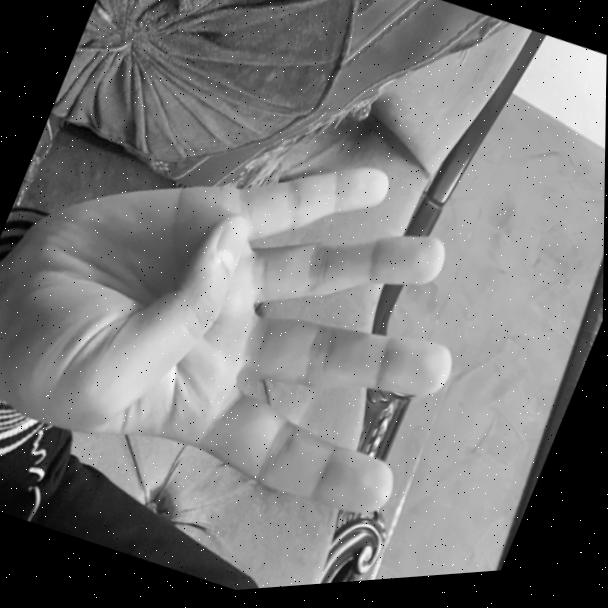four: (0, 37, 519, 572)
